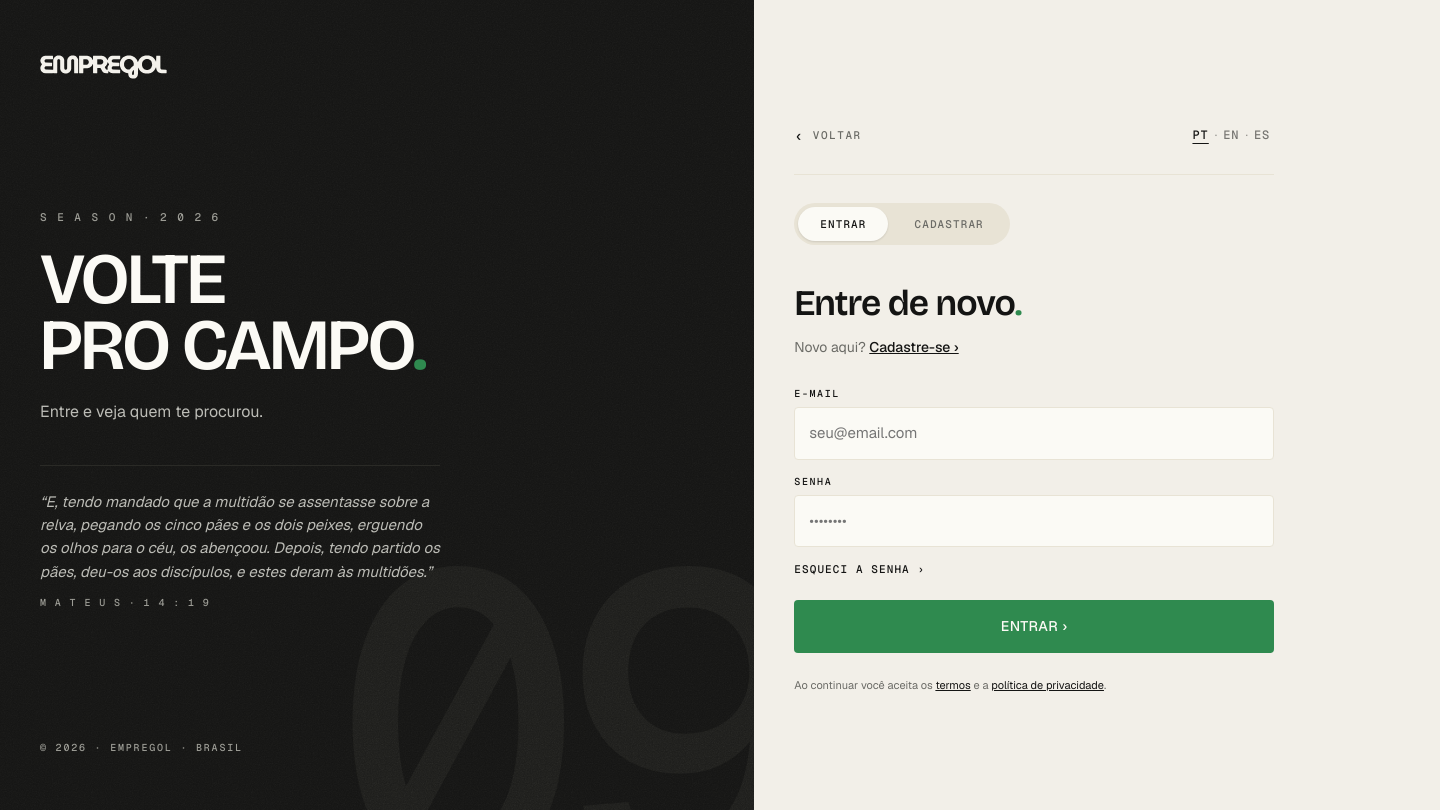
Test: Fluxo de autenticação › entra e chega no painel, com a sessão persistida
Type "lucas@exemplo.com" into the field labelled "E-mail".
click(1034, 433); type("lucas@exemplo.com")  # box 794,407 -> 1274,460
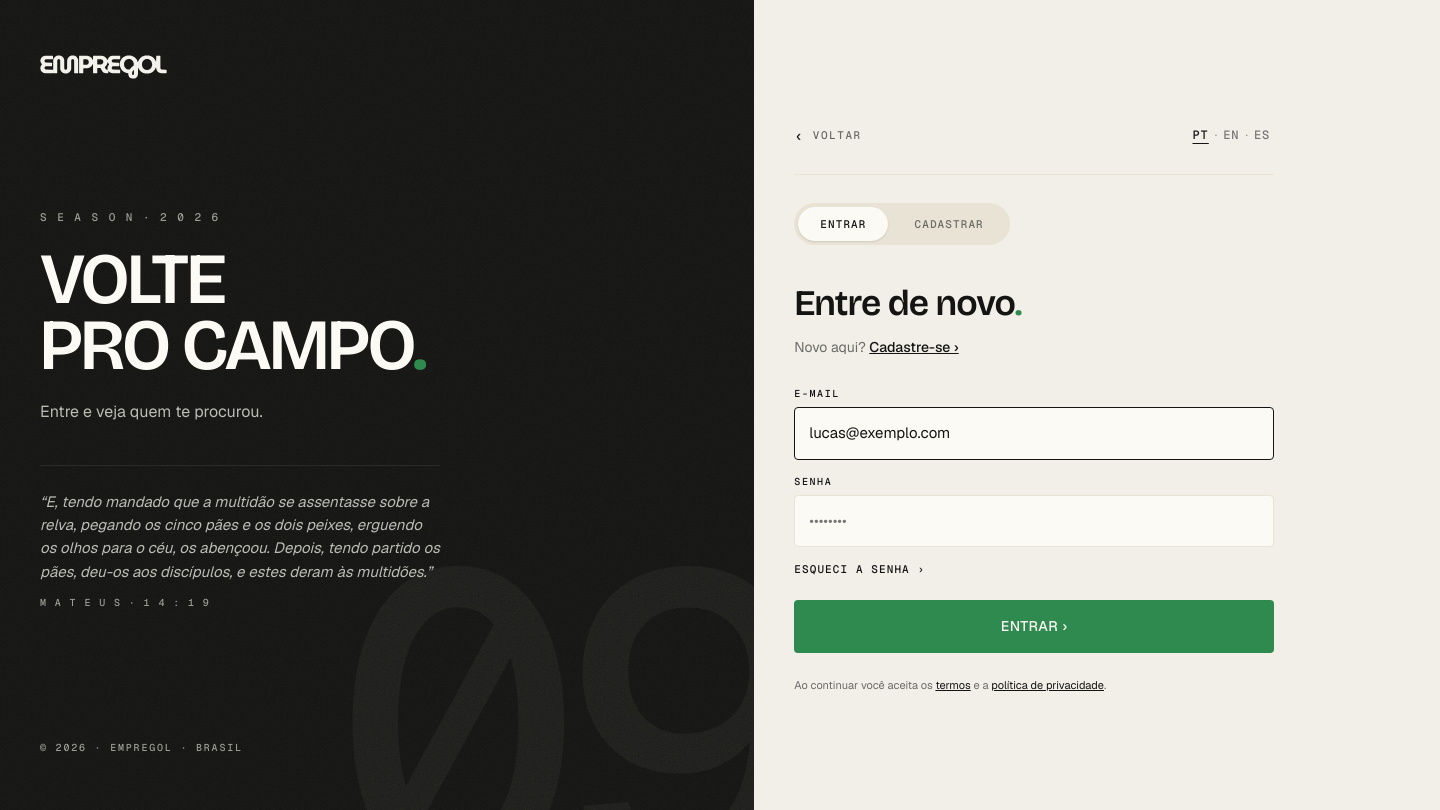
Type "segredo123" into the password field labelled "Senha".
click(1034, 521); type("segredo123")  # box 794,494 -> 1274,547
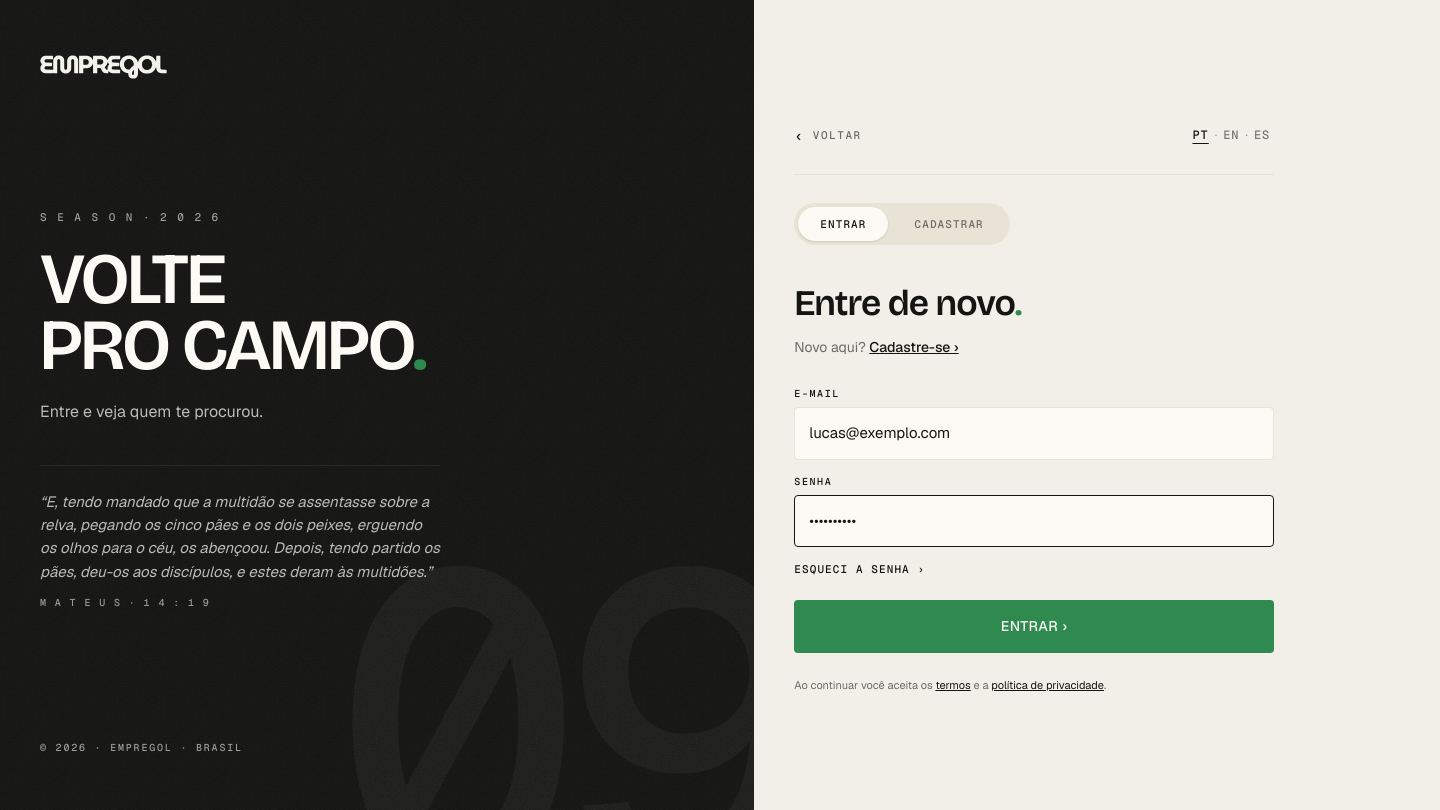
Click the button "Entrar ›".
click(1034, 626)  # box 794,600 -> 1274,652
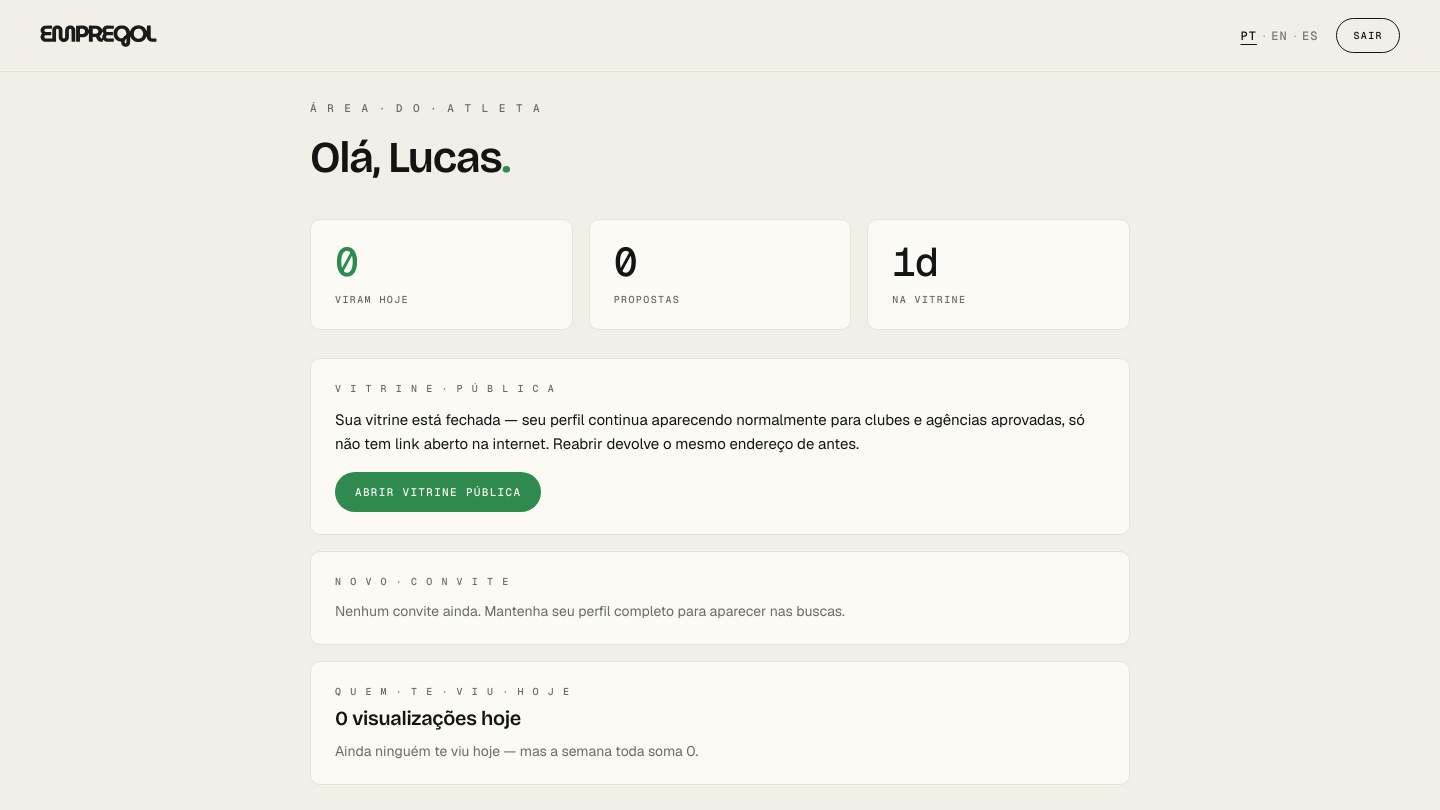
Expected: the heading "Olá, Lucas." is shown, 310,130 -> 510,184
